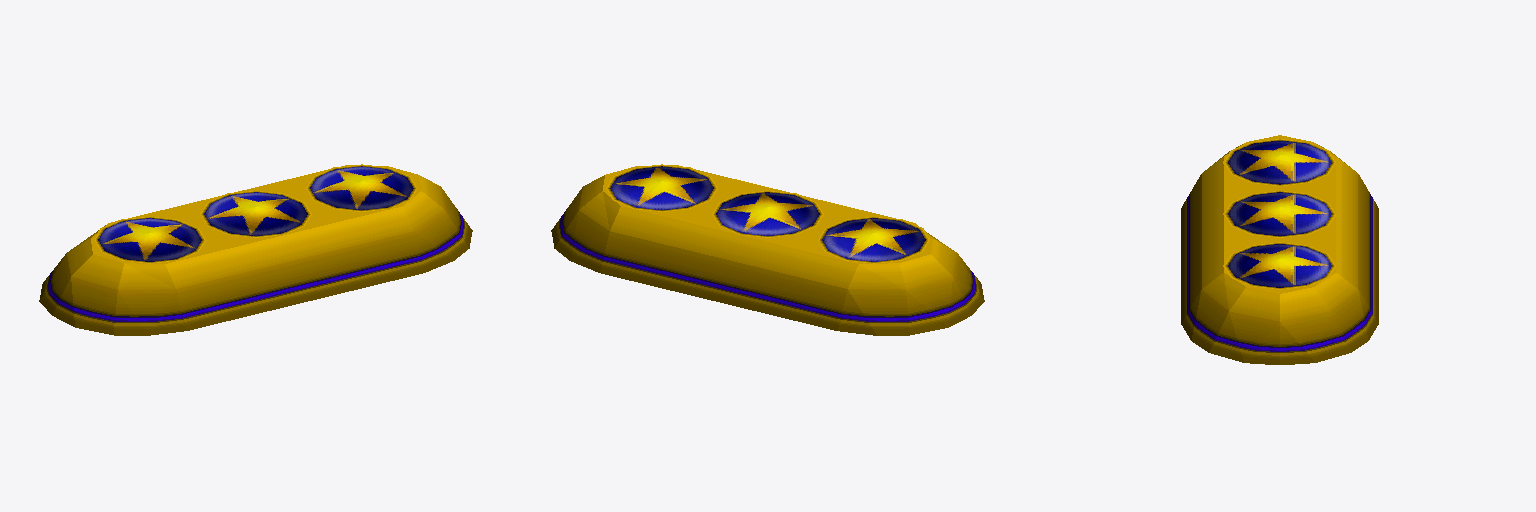
3 renders of one model, left to right at view 1: azimuth 30°, elevation 25°; view 2: azimuth 150°, elevation 25°; view 3: azimuth 270°, elevation 25°, orthographic.
Parts seen in each view (by area): view 1: polygon1; view 2: polygon1; view 3: polygon1.
Part boxes in pixels (bbox=[...]): polygon1: bbox=[39, 164, 472, 335]; polygon1: bbox=[551, 164, 984, 335]; polygon1: bbox=[1181, 135, 1378, 364].
Bounding box in the file's own units: 29.18 × 6.7 × 12.25.
1 materials, 1 textured.